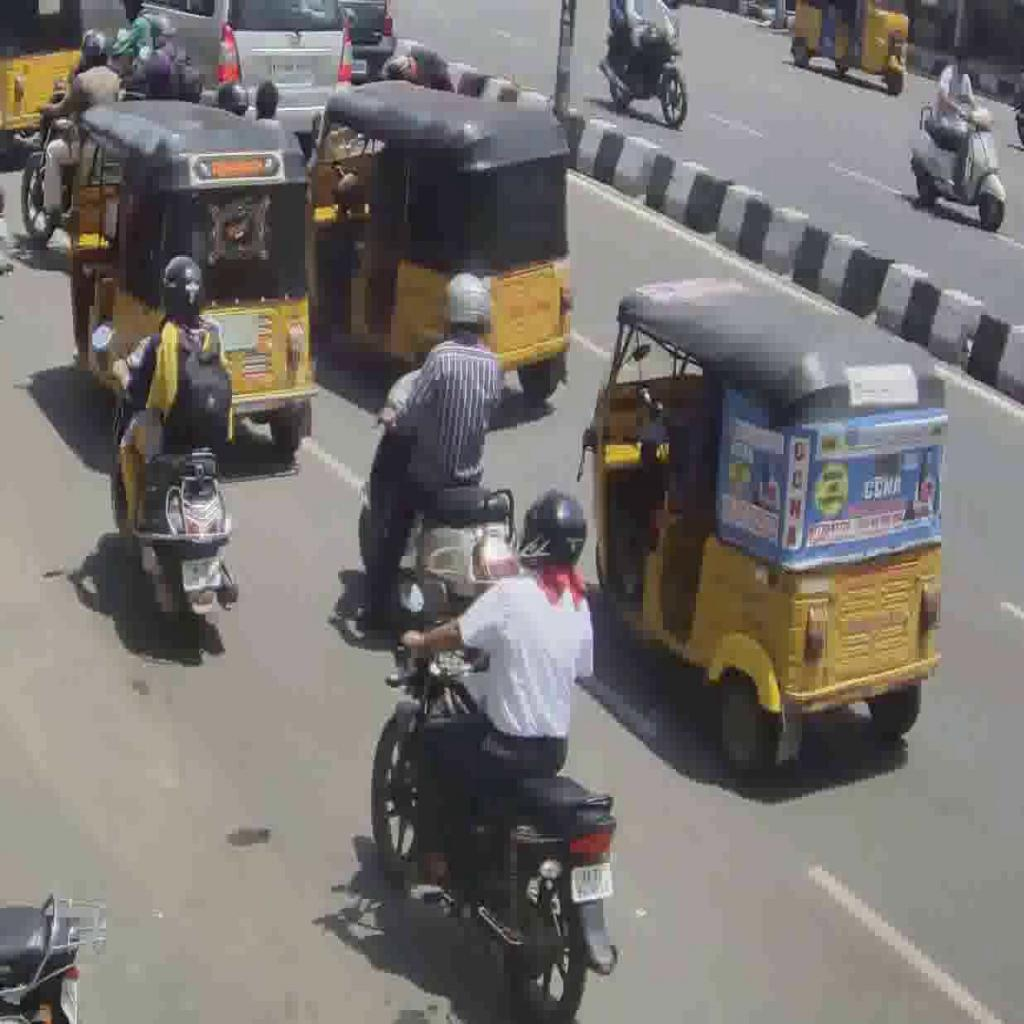helmet: (372, 663, 623, 1024), (93, 324, 243, 654)
